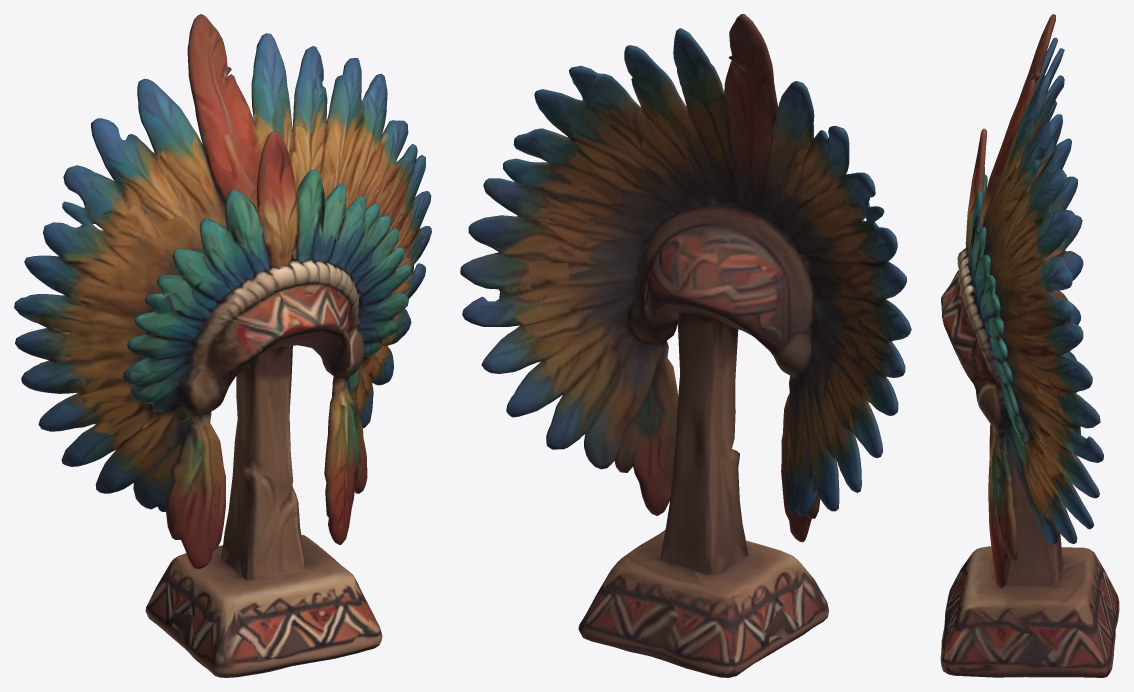
File: p3_04_cocar.glb
The picture shows the model from 3 angles, left to right: view 1: azimuth 30°, elevation 25°; view 2: azimuth 150°, elevation 25°; view 3: azimuth 270°, elevation 25°; orthographic projection. The views are drawn at different scales.
Parts seen in each view (by area): view 1: p3_04_cocar; view 2: p3_04_cocar; view 3: p3_04_cocar.
Boxes of the visible parts, left/top/right/bottom form: p3_04_cocar: left=14, top=14, right=431, bottom=677; p3_04_cocar: left=460, top=14, right=911, bottom=677; p3_04_cocar: left=940, top=14, right=1119, bottom=677.
Bounding box in the file's own units: 1.15 × 1.6 × 0.43.
1 material, 1 textured.
